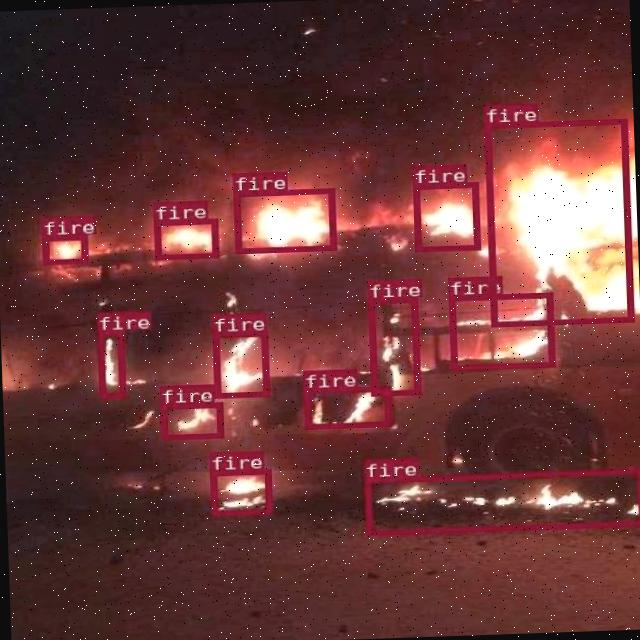fire: (482, 117, 632, 326), (363, 467, 640, 534), (447, 292, 552, 368), (232, 186, 336, 252), (367, 296, 419, 395), (412, 182, 478, 250), (302, 384, 390, 428), (212, 329, 268, 397), (208, 468, 270, 515), (152, 217, 217, 258), (159, 400, 222, 438), (95, 329, 124, 398), (40, 234, 87, 264)
